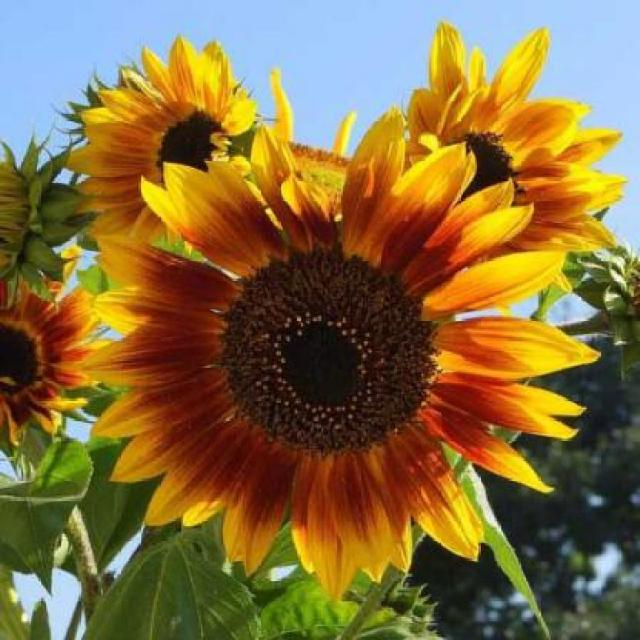sunflower: (82, 122, 576, 598), (396, 11, 633, 289)
